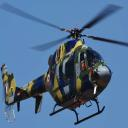helicopter: (2, 4, 128, 124)
